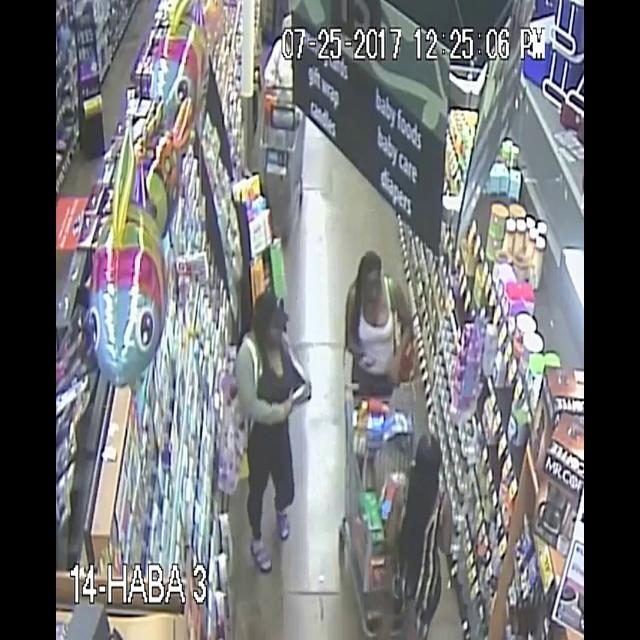normal: (213, 287, 324, 600), (330, 240, 434, 406), (388, 433, 470, 640)
